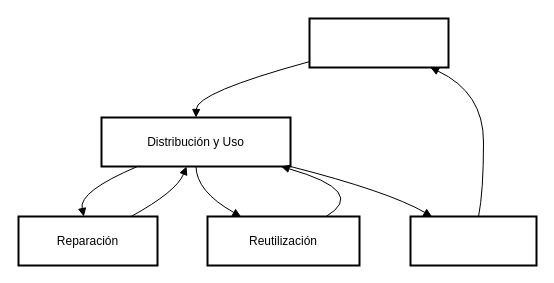
This 554x283 diagram has some shape labels left out. Here are the shapes that lost their labels. From the top down, the box of each, then its label:
(308, 17, 449, 68): Producción
(409, 215, 537, 266): Reciclaje
